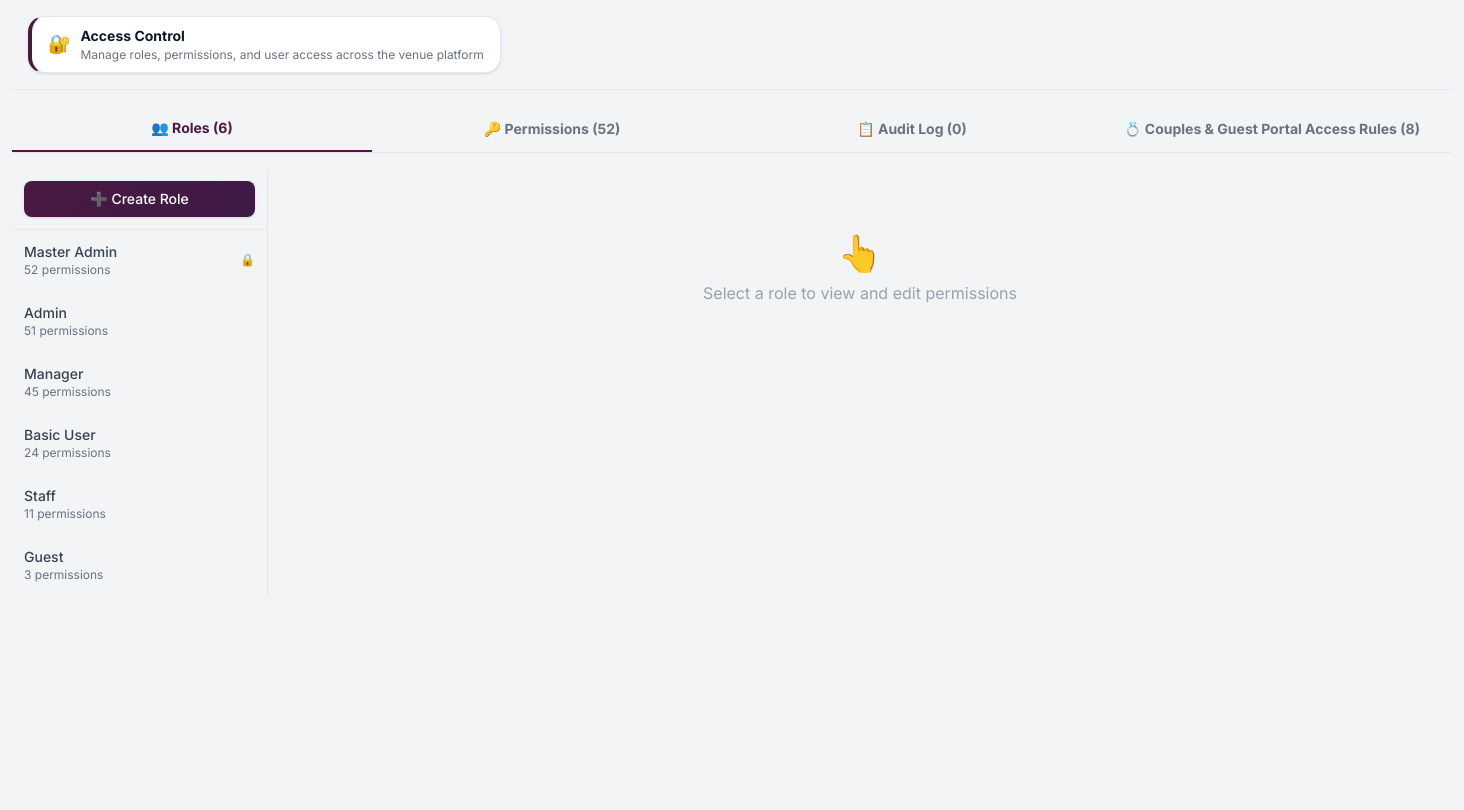
Test: UserManagement & AccessControl — Internal Staff RBAC & Zero-Event-Tying (#160) › displays the Manager role (hierarchy: 70) and hierarchy badges in AccessControlPanel
The image size is (1464, 810).
Expected: the text "Master Admin" is shown, [24,242,117,262]
Expected: the text "Admin" is shown, [24,304,67,320]
# Select the Manager role and check that its hierarchy badge is displayed
Click the text "Manager".
click(54, 373)  # box [24,364,83,382]
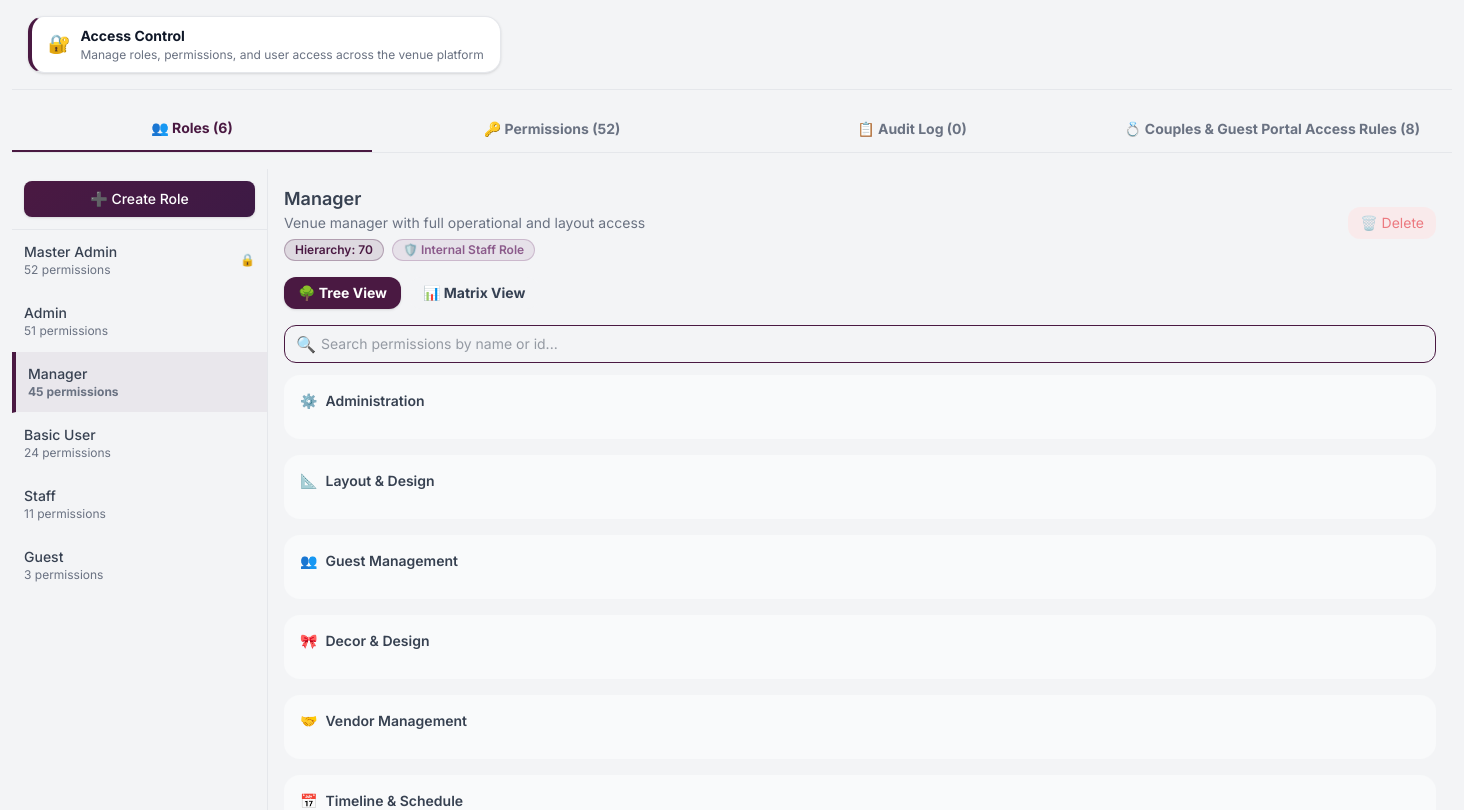
Expected: the text "Hierarchy: 70" is shown, [284,238,384,260]
Expected: the text "🛡️ Internal Staff Role" is shown, [392,238,535,260]
